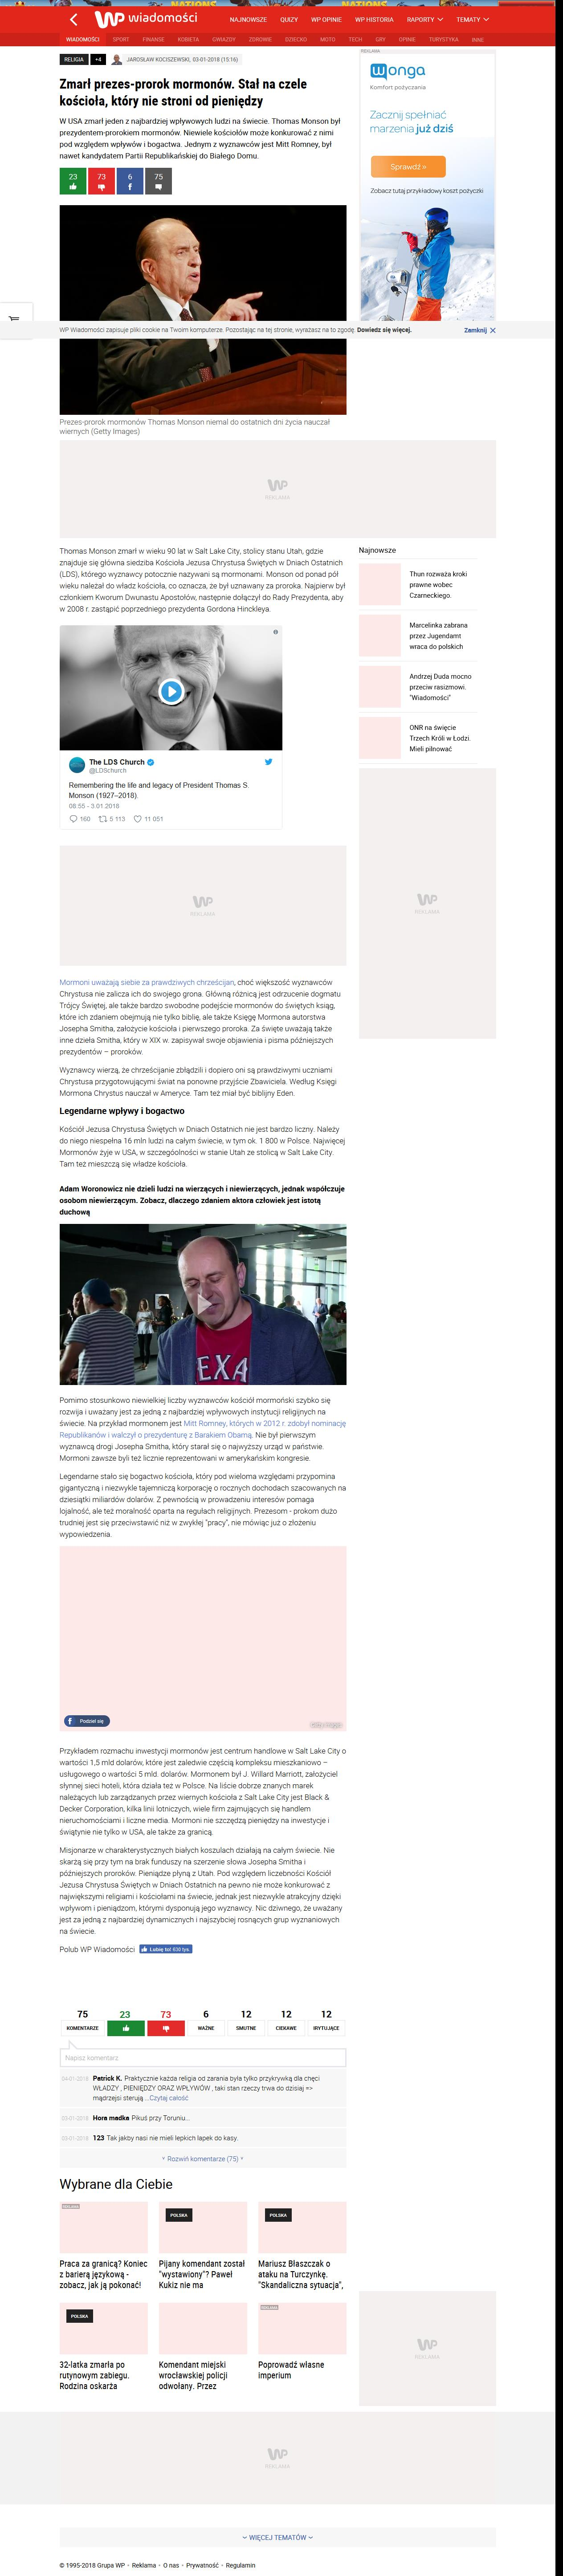title: (59, 77, 308, 108)
